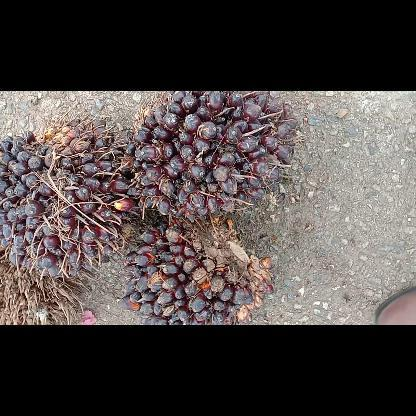TBS mentah: (126, 91, 296, 216), (0, 121, 137, 275), (117, 216, 273, 324)
